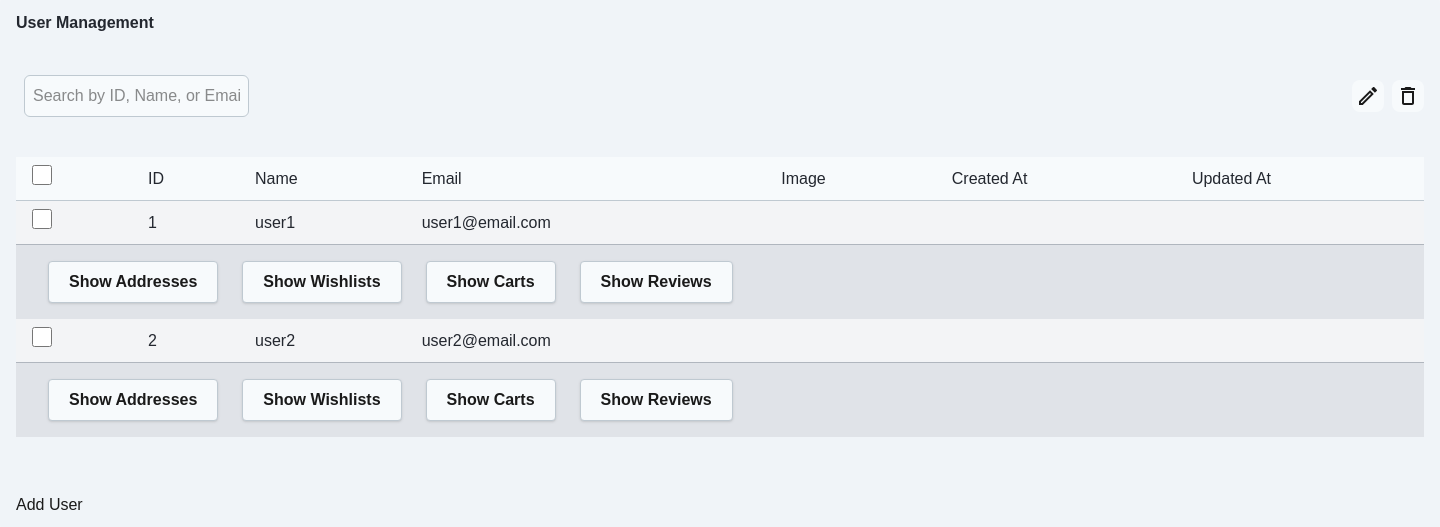
Test: UserTable › shows alert if trying to edit with nothing selected
The width and height of the screenshot is (1440, 527).
Step 1. Click the button titled "edit selected user" → click(1368, 96), box [1352, 80, 1384, 112]
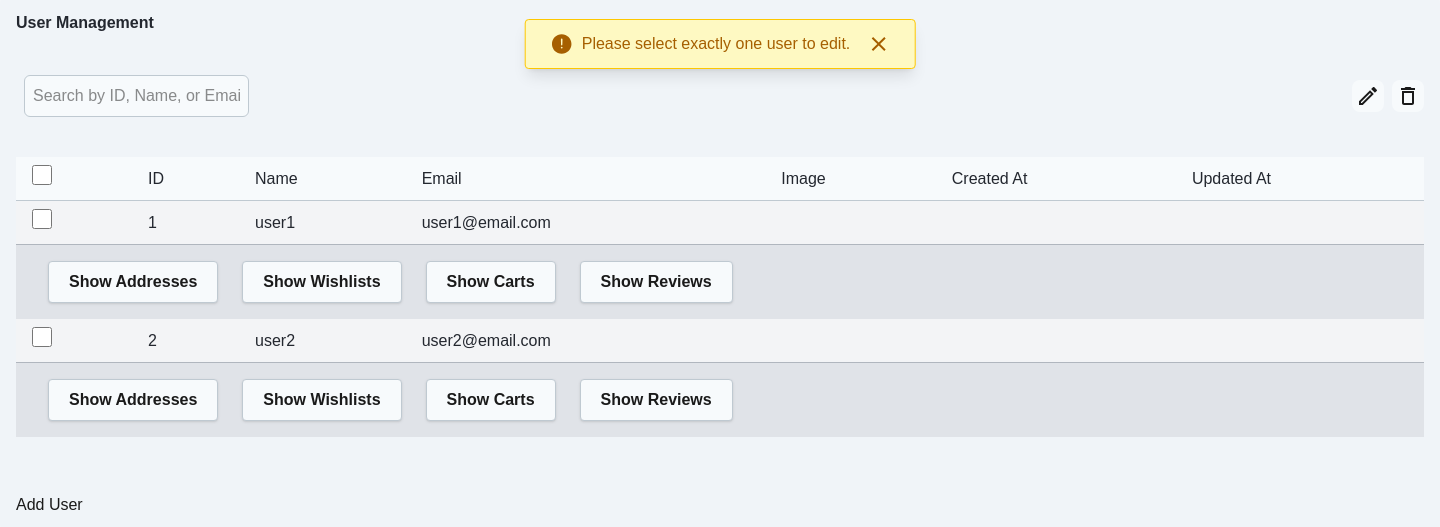
Expected: the text "Please select exactly one user to edit." is shown, [582, 32, 850, 56]
